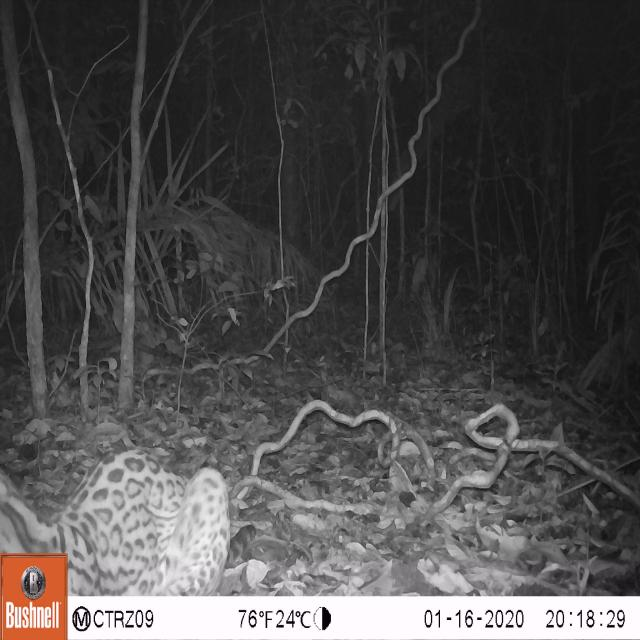Ocelote: (1, 436, 240, 596)
